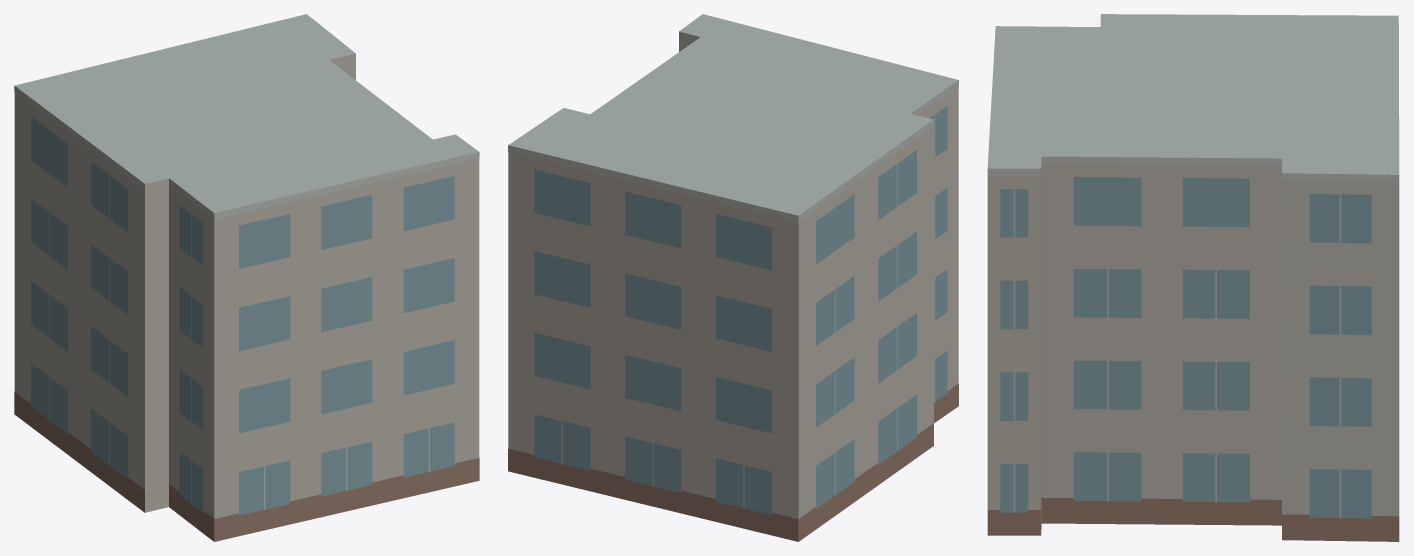
File: survey-upis-32789433.glb
The picture shows the model from 3 angles, left to right: view 1: azimuth 30°, elevation 25°; view 2: azimuth 150°, elevation 25°; view 3: azimuth 270°, elevation 25°; orthographic projection. The views are drawn at different scales.
Visible parts, largest first — view 1: survey-upis-32789433.tmp; view 2: survey-upis-32789433.tmp; view 3: survey-upis-32789433.tmp.
Boxes of the visible parts, box(x1,y1,x2,y2) form: survey-upis-32789433.tmp: box(14, 14, 479, 541); survey-upis-32789433.tmp: box(508, 14, 958, 541); survey-upis-32789433.tmp: box(987, 14, 1399, 541).
Bounding box in the file's own units: 11.48 × 12.2 × 12.42.
